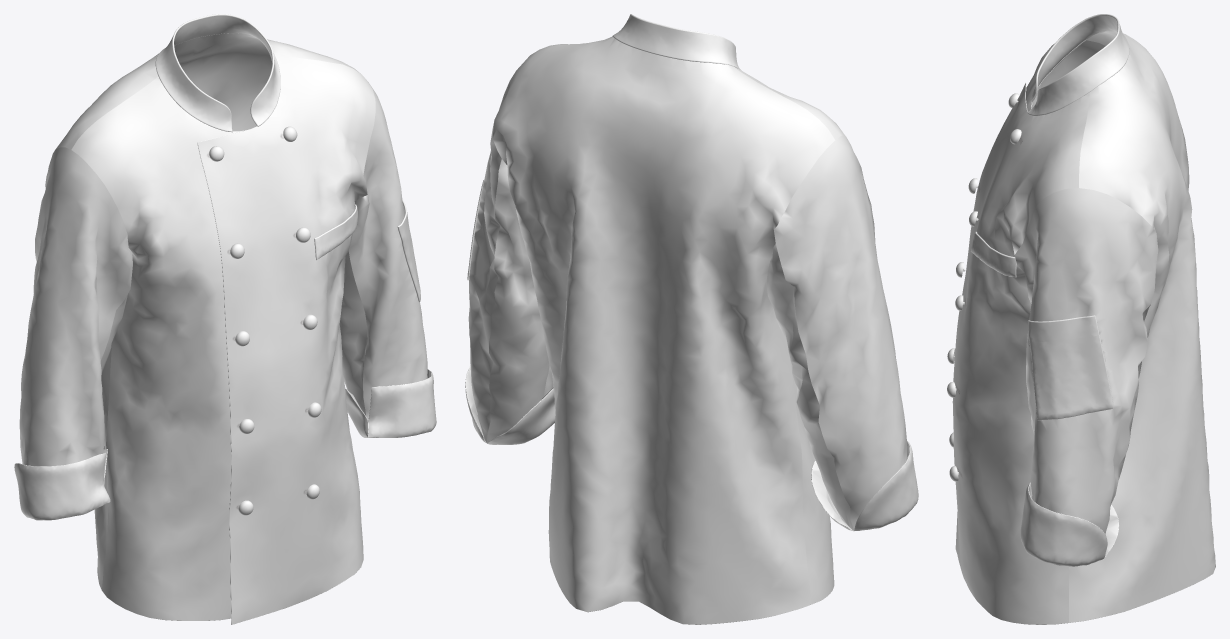
Rendered from chef-jacket.gltf.
The picture shows the model from 3 angles, left to right: view 1: azimuth 30°, elevation 25°; view 2: azimuth 150°, elevation 25°; view 3: azimuth 270°, elevation 25°; orthographic projection. The views are drawn at different scales.
Visible parts, largest first — view 1: Cloth; view 2: Cloth; view 3: Cloth.
Part boxes in pixels (left/top/right/bottom): Cloth: left=14, top=14, right=436, bottom=624; Cloth: left=465, top=14, right=918, bottom=624; Cloth: left=952, top=14, right=1215, bottom=624.
Bounding box in the file's own units: 60.5 × 76.44 × 33.95.
2 materials, 2 textured.
